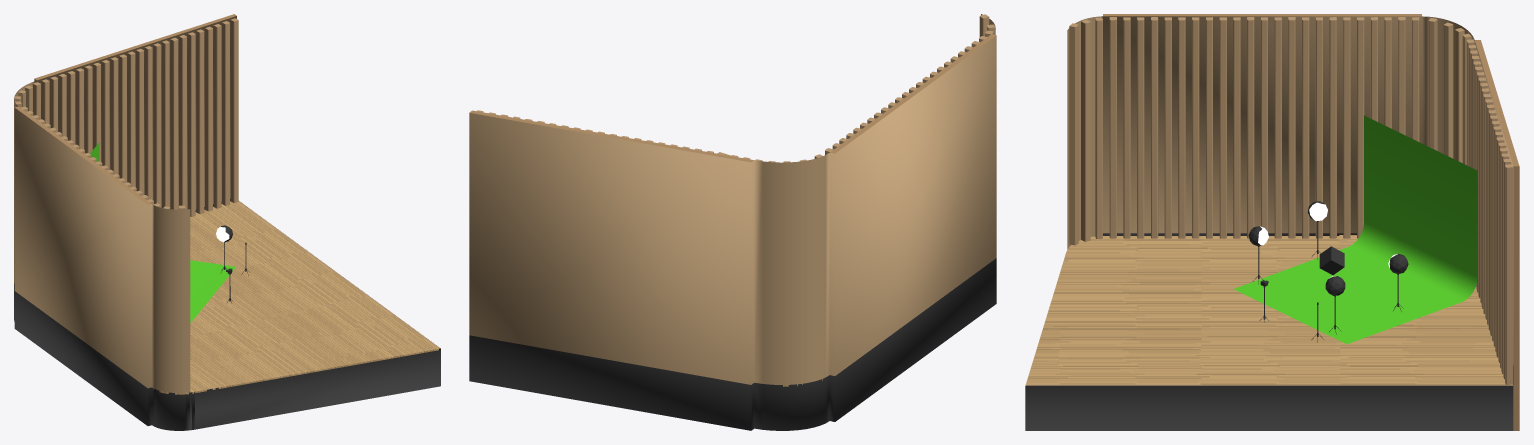
File: grande_auditorio.glb
The picture shows the model from 3 angles, left to right: view 1: azimuth 30°, elevation 25°; view 2: azimuth 150°, elevation 25°; view 3: azimuth 270°, elevation 25°; orthographic projection. The views are drawn at different scales.
Parts seen in each view (by area): view 1: STAGE_Main, Cube.003, ESML_F_Taco_Longo_Mel.001, ESML_F_Taco_Longo_Mel, ESML_F_Taco_Longo_Mel.003, ESML_F_Taco_Longo_Mel.006, ESML_F_Taco_Longo_Mel.004, Plane, ESML_F_Taco_Longo_Mel.009, Cube.006, ESML_F_Taco_Longo_Mel.002, piso; view 2: STAGE_Main, Cube.006, Cube.003; view 3: STAGE_Main, Cube.006, Plane, Cube.003, ESML_F_Taco_Longo_Mel.001, ESML_F_Taco_Longo_Mel.006, ESML_F_Taco_Longo_Mel, ESML_F_Taco_Longo_Mel.003, ESML_F_Taco_Longo_Mel.002, ESML_F_Taco_Longo_Mel.004, ESML_F_Taco_Longo_Mel.005, ESML_F_Taco_Longo_Mel.009 (+3 smaller).
Part boxes in pixels (<box>): STAGE_Main: <box>14,14,440,430</box>; Cube.003: <box>14,18,238,216</box>; ESML_F_Taco_Longo_Mel.001: <box>190,319,331,387</box>; ESML_F_Taco_Longo_Mel: <box>263,294,424,361</box>; ESML_F_Taco_Longo_Mel.003: <box>220,252,365,319</box>; ESML_F_Taco_Longo_Mel.006: <box>190,201,306,269</box>; ESML_F_Taco_Longo_Mel.004: <box>190,287,264,336</box>; Plane: <box>90,142,235,322</box>; ESML_F_Taco_Longo_Mel.009: <box>322,337,438,368</box>; Cube.006: <box>15,101,185,209</box>; ESML_F_Taco_Longo_Mel.002: <box>153,361,224,394</box>; piso: <box>190,201,440,392</box>; STAGE_Main: <box>469,14,996,430</box>; Cube.006: <box>814,14,994,158</box>; Cube.003: <box>476,110,806,384</box>; STAGE_Main: <box>1025,14,1519,430</box>; Cube.006: <box>1069,17,1437,245</box>; Plane: <box>1233,115,1477,344</box>; Cube.003: <box>1444,22,1512,384</box>; ESML_F_Taco_Longo_Mel.001: <box>1044,268,1211,326</box>; ESML_F_Taco_Longo_Mel.006: <box>1340,326,1505,384</box>; ESML_F_Taco_Longo_Mel: <box>1055,326,1211,384</box>; ESML_F_Taco_Longo_Mel.003: <box>1196,326,1350,384</box>; ESML_F_Taco_Longo_Mel.002: <box>1061,236,1211,267</box>; ESML_F_Taco_Longo_Mel.004: <box>1201,267,1308,325</box>; ESML_F_Taco_Longo_Mel.005: <box>1201,236,1340,267</box>; ESML_F_Taco_Longo_Mel.009: <box>1026,326,1070,384</box>.
Bounding box in the file's own units: 10.4 × 8.48 × 14.26.
